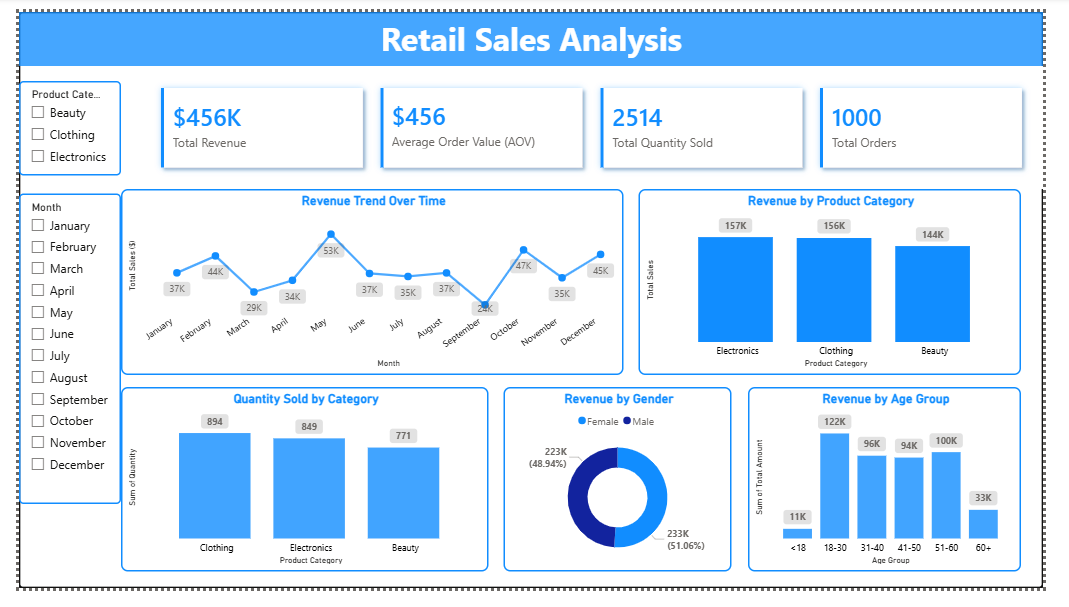

Layout of this report page (visuals, bound fields, positions):
{"tool":"powerbi","page":{"name":"Page 1","canvas":[1366,768],"ordinal":0},"visuals":[{"type":"lineChart","title":"Revenue Trend Over Time","fields":{"Category":["retail_sales_cleaned.Month.Variation.Date Hierarchy.Month"],"Y":["Sum(retail_sales_cleaned.Total Amount)"]},"box":[136,236,670,248],"z":0},{"type":"textbox","box":[0,0,1366,72],"z":1000},{"type":"cardVisual","fields":{"Data":["Sum(retail_sales_cleaned.Total Amount)","Avg(retail_sales_cleaned.Total Amount)","Sum(retail_sales_cleaned.Quantity)","CountNonNull(retail_sales_cleaned.Transaction ID)"]},"box":[160,72,1206,164],"z":2000},{"type":"clusteredColumnChart","title":"Revenue by Product Category","fields":{"Category":["retail_sales_cleaned.Product Category"],"Y":["Sum(retail_sales_cleaned.Total Amount)"]},"box":[826,236,510,248],"z":3000},{"type":"clusteredColumnChart","title":"Quantity Sold by Category","fields":{"Y":["Sum(retail_sales_cleaned.Quantity)"],"Category":["retail_sales_cleaned.Product Category"]},"box":[136,500,490,246],"z":4000},{"type":"donutChart","title":"Revenue by Gender","fields":{"Category":["retail_sales_cleaned.Gender"],"Y":["Sum(retail_sales_cleaned.Total Amount)"]},"box":[646,500,304,246],"z":5000},{"type":"clusteredColumnChart","title":"Revenue by Age Group","fields":{"Y":["Sum(retail_sales_cleaned.Total Amount)"],"Category":["retail_sales_cleaned.Age Group"]},"box":[972,500,364,246],"z":6000},{"type":"slicer","fields":{"Values":["retail_sales_cleaned.Date.Variation.Date Hierarchy.Month"]},"box":[0,242,136,414],"z":7000},{"type":"slicer","fields":{"Values":["retail_sales_cleaned.Product Category"]},"box":[0,92,136,126],"z":7001}]}

Visuals, with their boxes in screenshot pixels (x1, y1, x2, y2), scaled from the page's 1366x768 canvas onto the 1069x607 screenshot:
"Revenue Trend Over Time" lineChart: (x1=106, y1=187, x2=631, y2=383)
textbox: (x1=0, y1=0, x2=1068, y2=57)
cardVisual - Sum(retail_sales_cleaned.Total Amount) x Avg(retail_sales_cleaned.Total Amount): (x1=125, y1=57, x2=1068, y2=187)
"Revenue by Product Category" clusteredColumnChart: (x1=646, y1=187, x2=1046, y2=383)
"Quantity Sold by Category" clusteredColumnChart: (x1=106, y1=395, x2=490, y2=590)
"Revenue by Gender" donutChart: (x1=506, y1=395, x2=743, y2=590)
"Revenue by Age Group" clusteredColumnChart: (x1=761, y1=395, x2=1046, y2=590)
slicer - retail_sales_cleaned.Date.Variation.Date Hierarchy.Month: (x1=0, y1=191, x2=106, y2=518)
slicer - retail_sales_cleaned.Product Category: (x1=0, y1=73, x2=106, y2=172)
